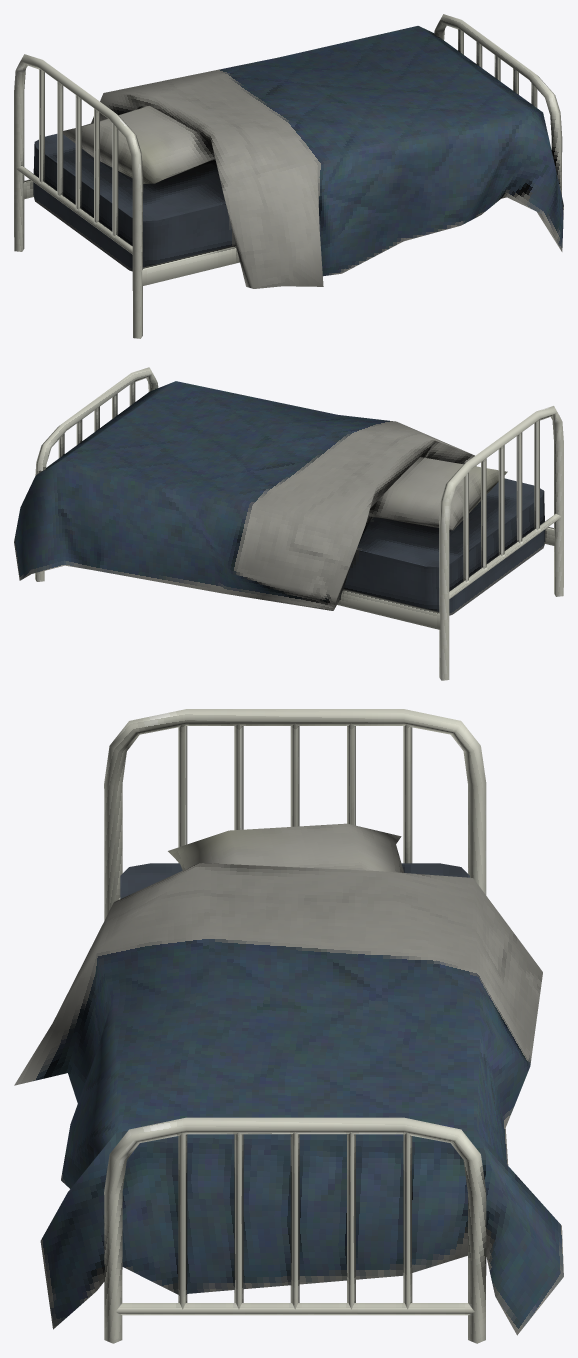
The model's file is bed.glb.
3 renders of one model, top to bottom at view 1: azimuth 30°, elevation 25°; view 2: azimuth 150°, elevation 25°; view 3: azimuth 270°, elevation 25°, orthographic. The views are drawn at different scales.
Parts seen in each view (by area): view 1: BedLow; view 2: BedLow; view 3: BedLow.
Part boxes in pixels (x1=…): BedLow: x1=14, y1=14, x2=563, y2=338; BedLow: x1=14, y1=367, x2=563, y2=680; BedLow: x1=14, y1=709, x2=563, y2=1343.
Size of the model in its own units: 2.24 by 0.9983 by 1.56.
1 material, 1 textured.
